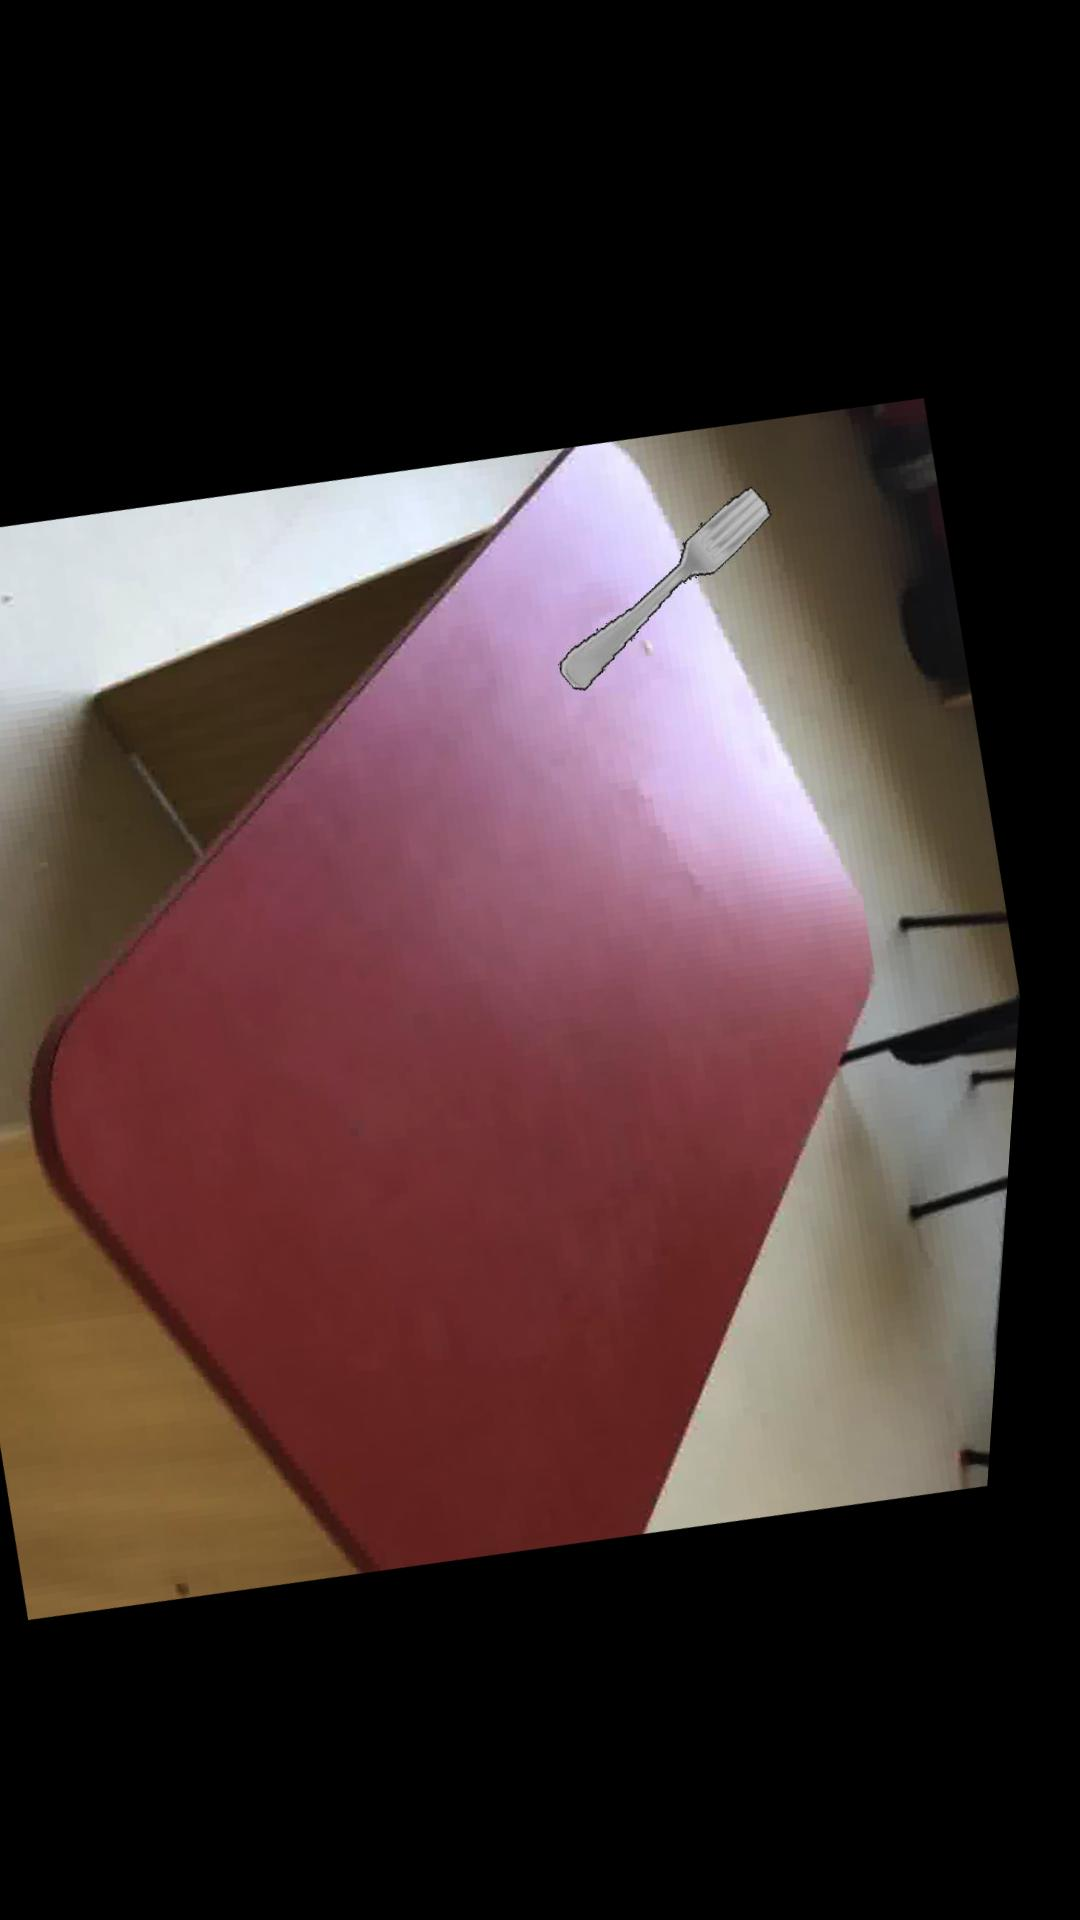fork: (570, 472, 779, 678)
